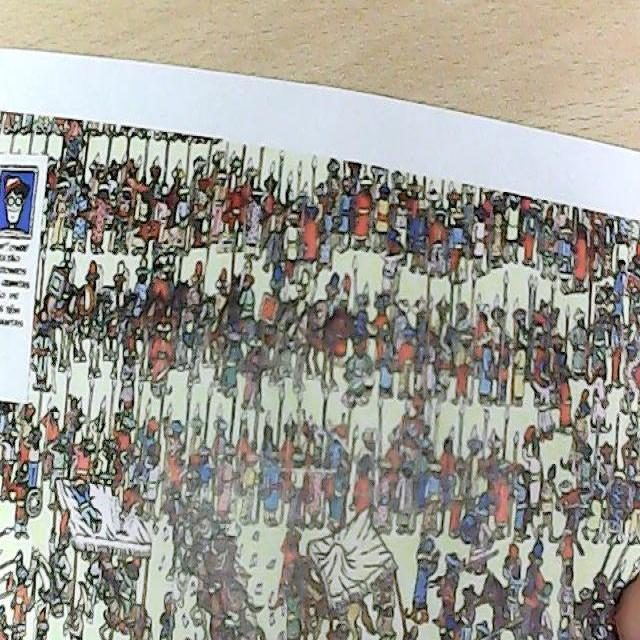waldo: (0, 171, 29, 233), (154, 258, 166, 279)
